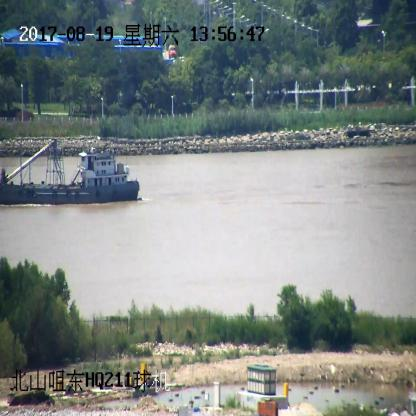Fishing Boat: (0, 138, 141, 204)
